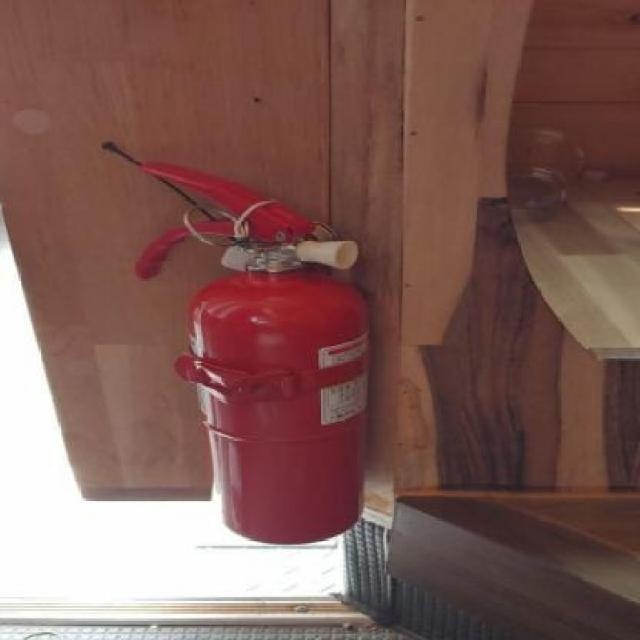fire extinguisher: (132, 161, 370, 545)
